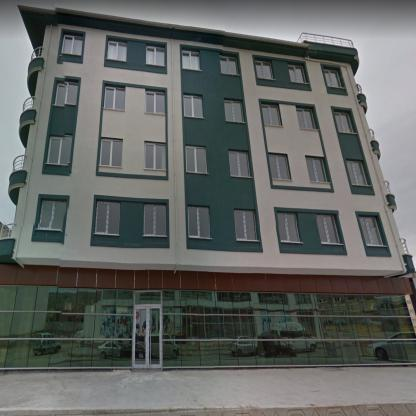door: (133, 306, 161, 368)
window: (94, 200, 120, 234), (37, 201, 66, 230), (46, 134, 72, 165), (359, 216, 384, 246), (144, 203, 166, 236), (188, 206, 210, 238), (316, 215, 340, 244), (235, 210, 258, 240), (277, 212, 300, 242), (99, 138, 122, 167), (53, 81, 78, 107), (144, 142, 166, 170), (102, 86, 126, 110), (268, 154, 290, 180), (144, 89, 166, 114), (228, 151, 250, 176), (186, 147, 207, 173), (306, 158, 327, 182), (346, 161, 367, 185), (224, 100, 245, 122), (183, 95, 203, 118), (62, 35, 82, 56), (334, 112, 354, 133), (107, 40, 126, 62), (134, 290, 161, 305), (323, 68, 343, 88), (262, 105, 281, 126), (297, 108, 316, 129), (182, 49, 200, 70), (146, 46, 164, 66), (256, 60, 274, 80), (288, 64, 306, 83), (220, 56, 238, 74)
